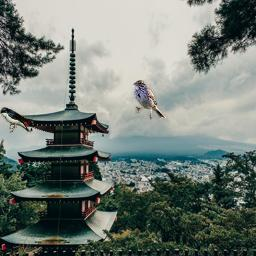Sparrow: (133, 80, 166, 120)
Swallow: (0, 107, 34, 133)
